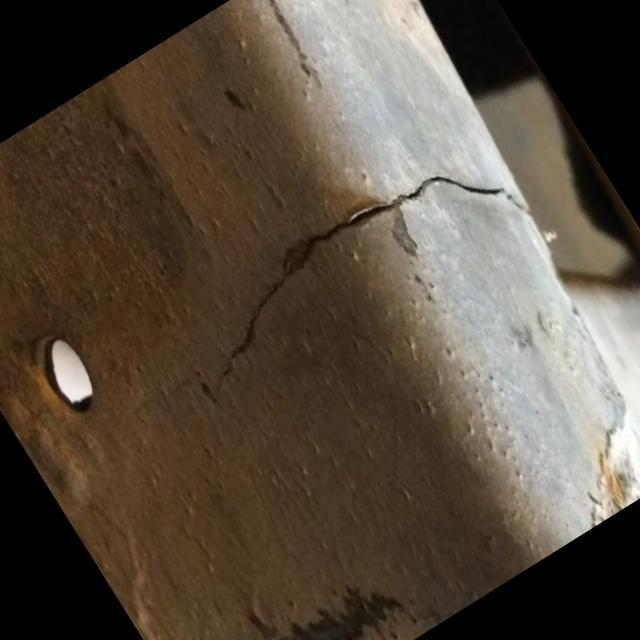defect: (213, 170, 531, 398), (584, 417, 622, 529)
